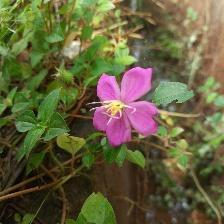malabar melastome: (93, 67, 162, 148)
